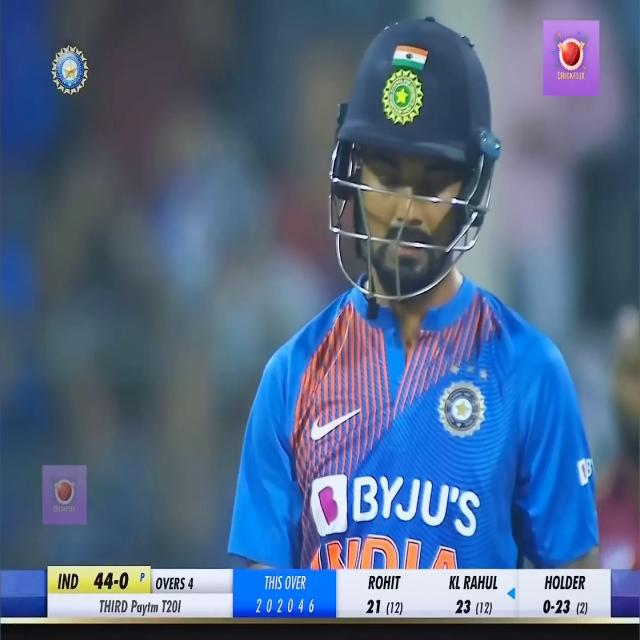fully_visible: (128, 596, 160, 622)
